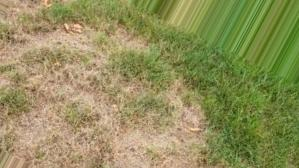patch: (1, 1, 205, 168)
